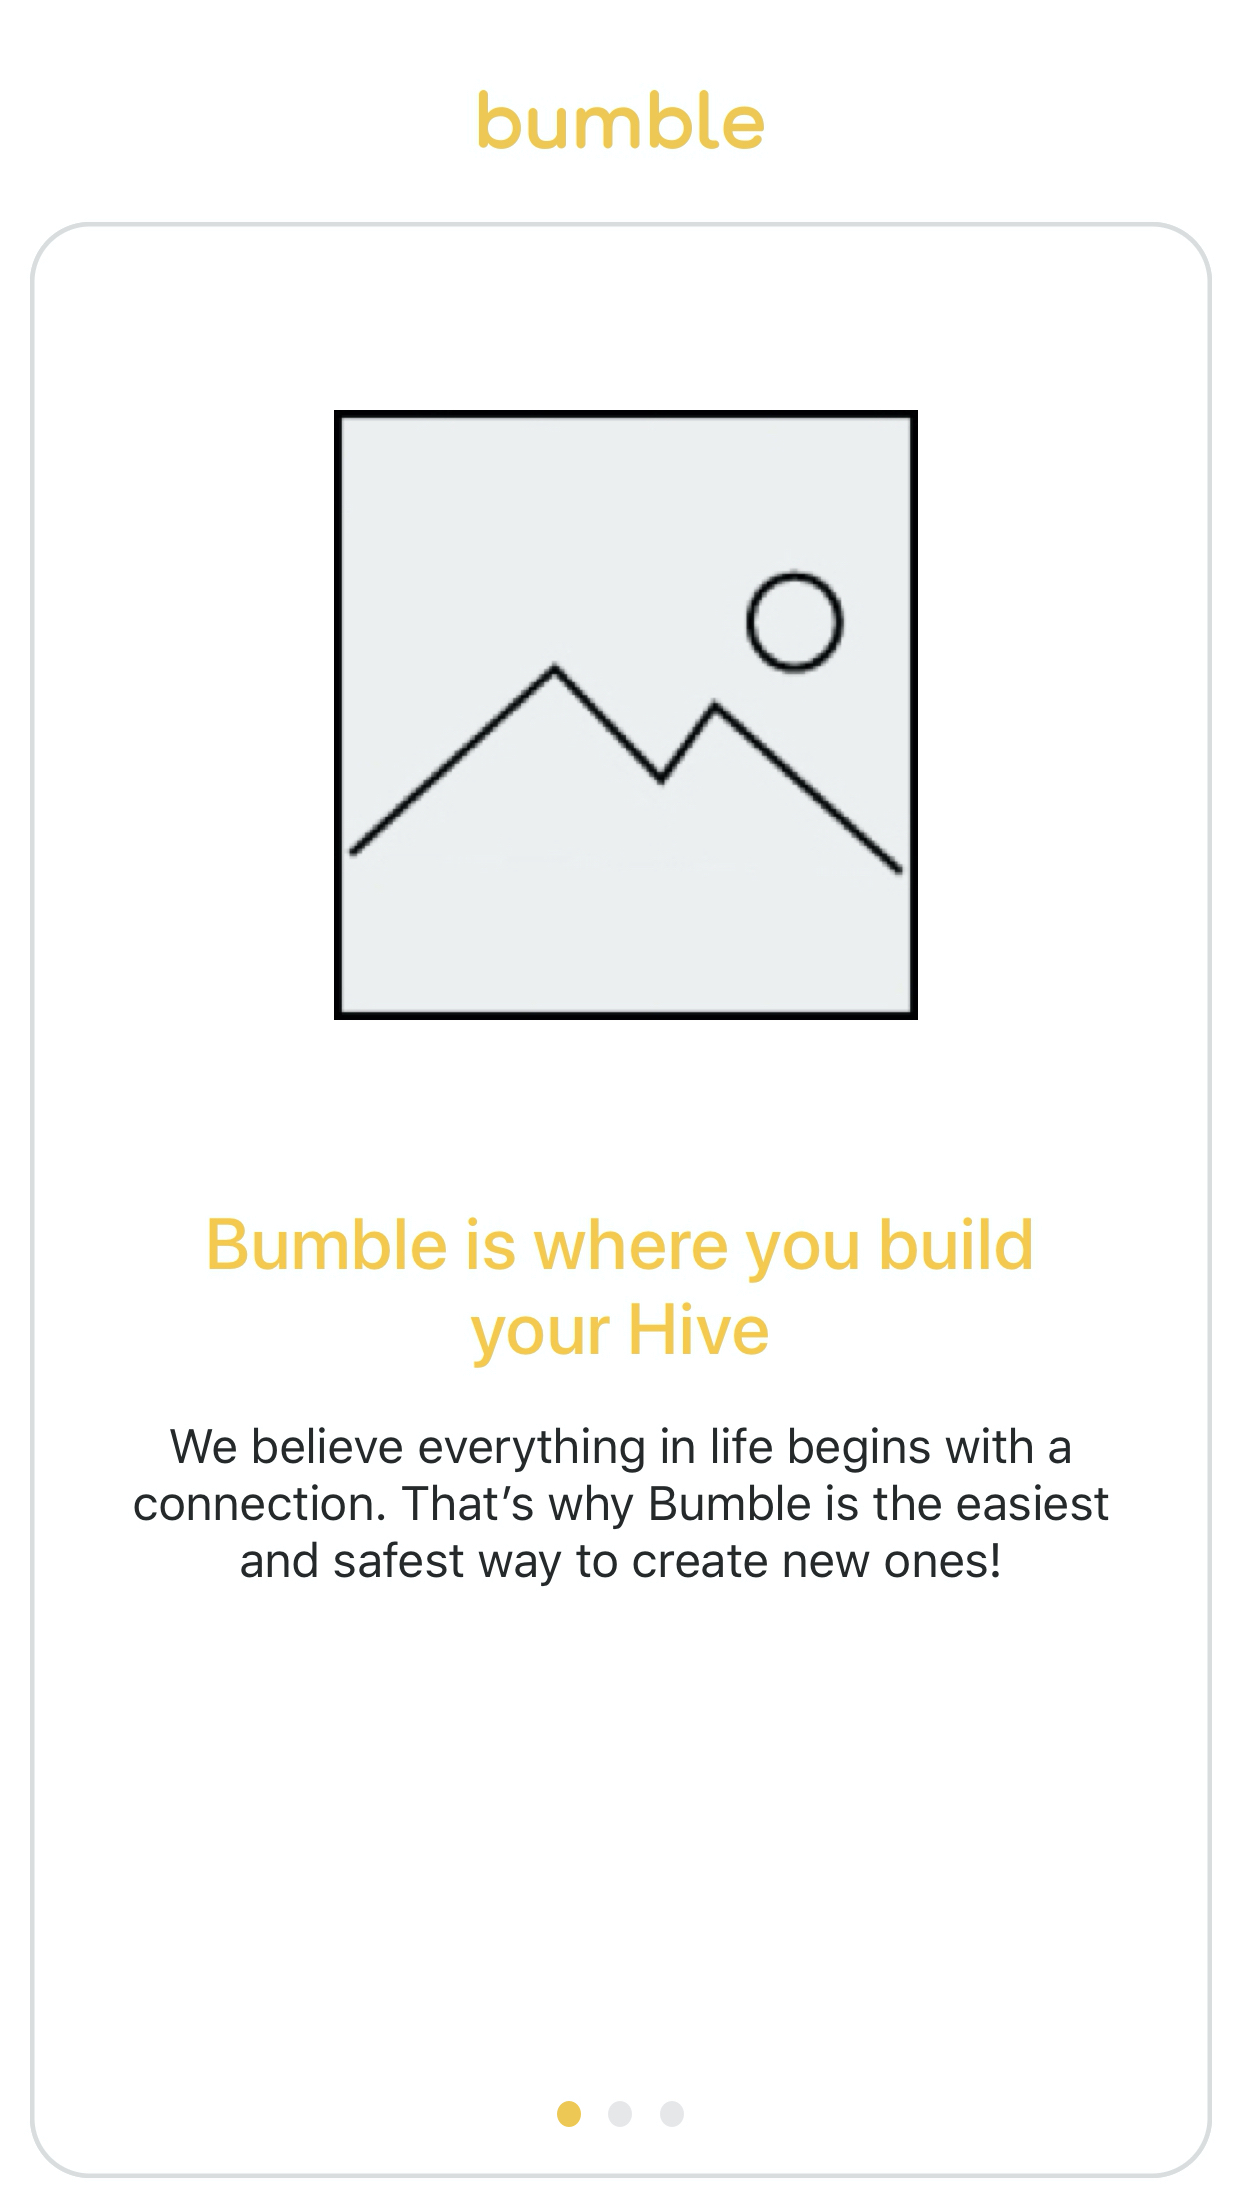Image: (334, 409, 919, 1021)
PageIndicator: (557, 2099, 685, 2129)
Text: (135, 1425, 1109, 1588), (208, 1216, 1034, 1369), (478, 89, 767, 152)
